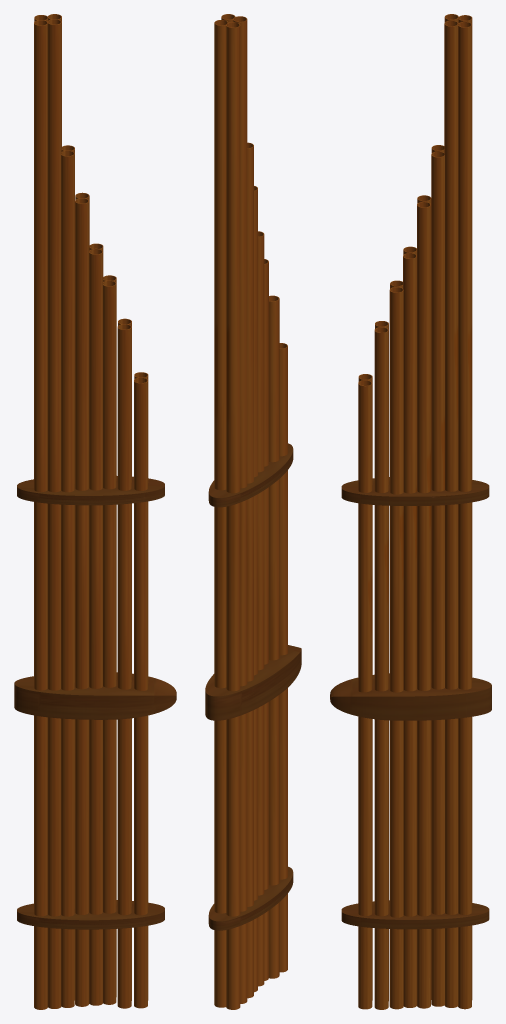
The model's file is kane.glb.
The picture shows the model from 3 angles, left to right: view 1: azimuth 90°, elevation 25°; view 2: azimuth 150°, elevation 25°; view 3: azimuth 270°, elevation 25°; orthographic projection.
Visible parts, largest first — view 1: ทรงกระบอก.011, ลูกบาศก์.001, ลูกบาศก์.002, ลูกบาศก์; view 2: ทรงกระบอก.011, ลูกบาศก์.001, ลูกบาศก์.002, ลูกบาศก์; view 3: ทรงกระบอก.011, ลูกบาศก์.001, ลูกบาศก์.002, ลูกบาศก์.
Part boxes in pixels (x1=…): ทรงกระบอก.011: x1=34, y1=14, x2=148, y2=1009; ลูกบาศก์.001: x1=14, y1=672, x2=176, y2=719; ลูกบาศก์.002: x1=17, y1=900, x2=164, y2=929; ลูกบาศก์: x1=17, y1=476, x2=164, y2=505; ทรงกระบอก.011: x1=214, y1=14, x2=287, y2=1009; ลูกบาศก์.001: x1=205, y1=645, x2=301, y2=720; ลูกบาศก์.002: x1=208, y1=866, x2=293, y2=930; ลูกบาศก์: x1=208, y1=443, x2=293, y2=507; ทรงกระบอก.011: x1=358, y1=14, x2=472, y2=1009; ลูกบาศก์.001: x1=330, y1=673, x2=491, y2=720; ลูกบาศก์.002: x1=341, y1=900, x2=489, y2=929; ลูกบาศก์: x1=341, y1=477, x2=489, y2=505.
Bounding box in the file's own units: 3.95 × 77.3 × 11.52.
Materials: 4 (4 with a texture image).
